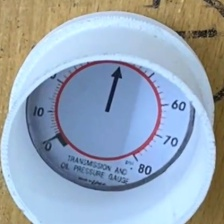gauge: (25, 59, 193, 191)
